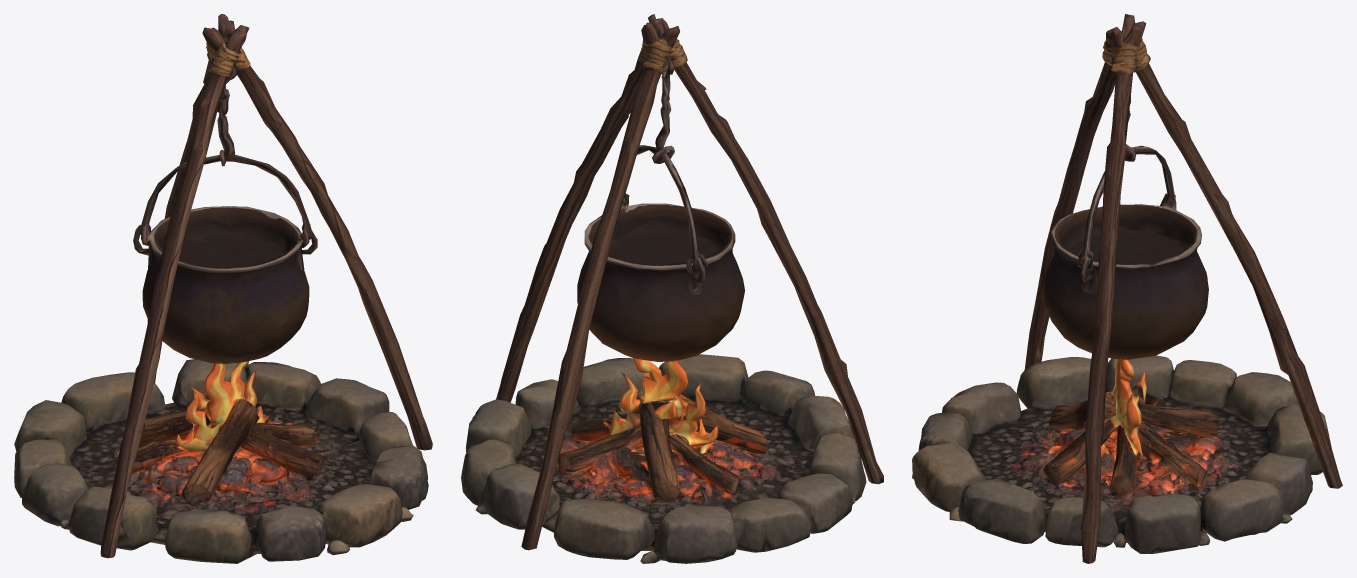
File: Cauldron_over_campfire.glb
3 renders of one model, left to right at view 1: azimuth 30°, elevation 25°; view 2: azimuth 150°, elevation 25°; view 3: azimuth 270°, elevation 25°, orthographic.
Parts seen in each view (by area): view 1: Mesh_0; view 2: Mesh_0; view 3: Mesh_0.
Part boxes in pixels (<box>): Mesh_0: <box>14,14,432,563</box>; Mesh_0: <box>461,14,883,563</box>; Mesh_0: <box>912,14,1342,563</box>.
Size of the model in its own units: 1.63 by 1.9 by 1.63.
Materials: 1 (1 with a texture image).
